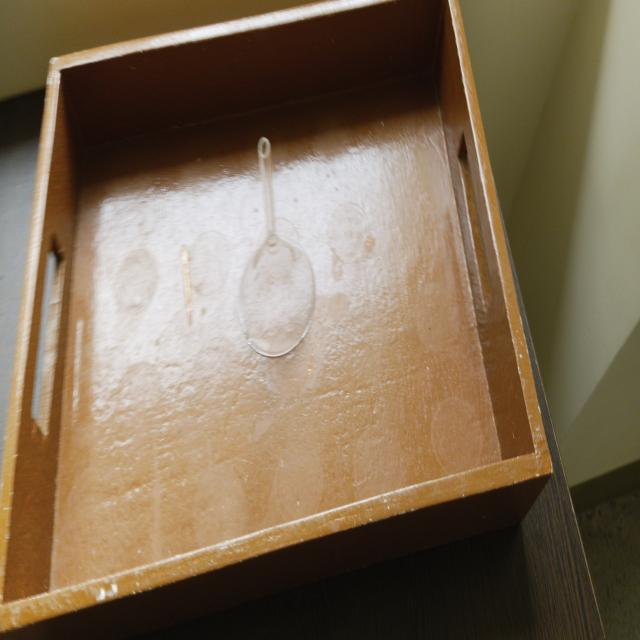funnel: (228, 130, 320, 364)
